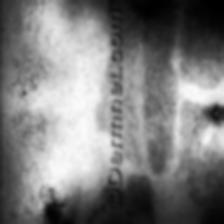Non-Cancerous Skin Condition: (122, 0, 224, 224)
